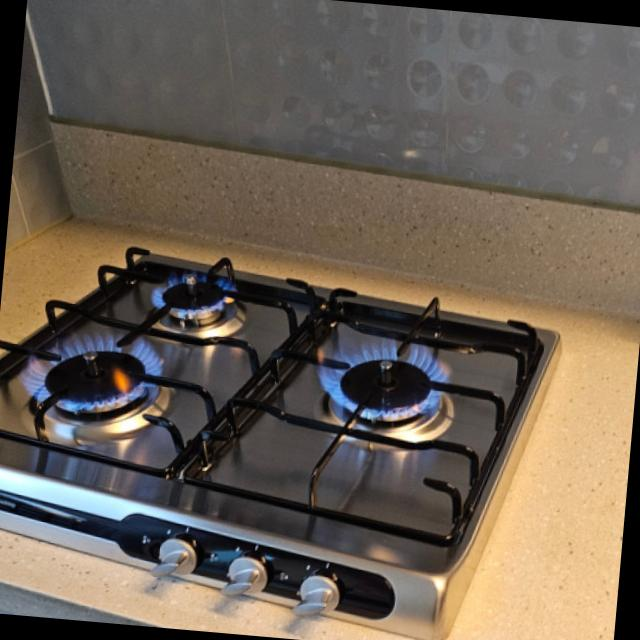knob_ON: (292, 304, 495, 476), (7, 326, 200, 461), (126, 232, 278, 344)
